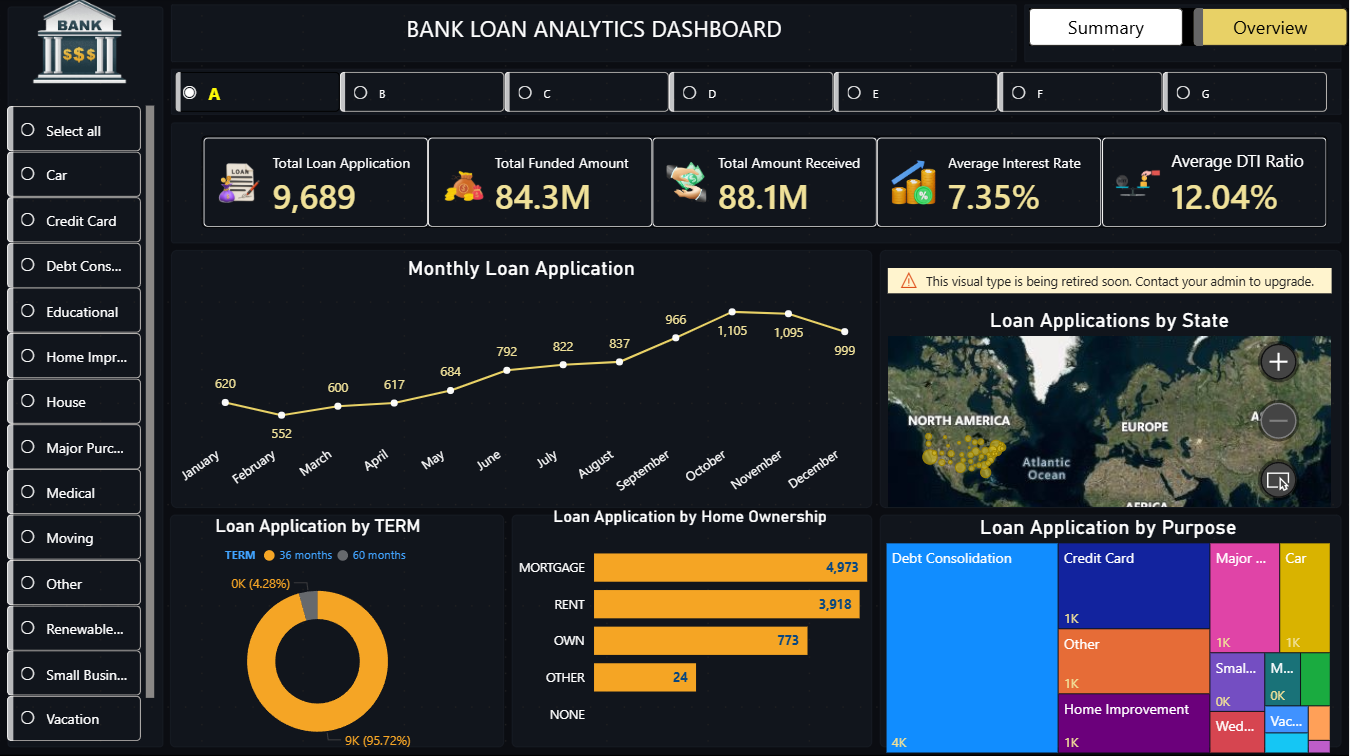

The page's visual inventory and layout, read from the dashboard file:
{"tool":"powerbi","page":{"name":"Overview","canvas":[1280,720],"ordinal":1},"visuals":[{"type":"cardVisual","fields":{"Data":["financial_loan.Total Loan Application","financial_loan.Total Funded Amount","financial_loan.Total Amount Received","financial_loan.Average Interest Rate","financial_loan.Average DTI Ratio"]},"box":[175.3,114.1,1104.7,121],"z":0},{"type":"image","box":[0,0,153,80.7],"z":1000},{"type":"advancedSlicerVisual","fields":{"Values":["financial_loan.PURPOSE"]},"box":[2.8,97.4,150.3,623.3],"z":2000},{"type":"advancedSlicerVisual","fields":{"Values":["financial_loan.GRADE"]},"box":[162.8,65.4,1104.7,48.7],"z":3000},{"type":"shape","box":[162.8,0,804.2,55.7],"z":4000},{"type":"pageNavigator","box":[976.7,9.7,303.3,36.2],"z":5000},{"type":"lineChart","title":"Monthly Loan Application","fields":{"Category":["financial_loan.ISSUE_DATE.Variation.Date Hierarchy.Month"],"Y":["financial_loan.Total Loan Application"]},"box":[162.4,245.3,666.1,245.3],"z":6000},{"type":"donutChart","title":" Loan Application by TERM","fields":{"Category":["financial_loan.TERM"],"Y":["financial_loan.Total Loan Application"]},"box":[131.6,490.7,341.3,229.9],"z":7000},{"type":"clusteredBarChart","title":"Loan Application by Home Ownership","fields":{"Category":["financial_loan.HOME_OWNERSHIP"],"Y":["financial_loan.Total Loan Application"]},"box":[482.4,490.7,346.1,229.9],"z":8000},{"type":"treemap","title":"Loan Application by Purpose","fields":{"Group":["financial_loan.PURPOSE"],"Values":["financial_loan.Total Loan Application"]},"box":[836.7,490.7,430.2,229.9],"z":9000},{"type":"map","title":"Loan Applications by State","fields":{"Category":["financial_loan.ADDRESS_STATE"],"Size":["financial_loan.Total Loan Application"]},"box":[837.9,256,430.2,226.4],"z":10000}]}

Visuals, with their boxes in screenshot pixels (x1, y1, x2, y2), scaled from the page's 1280x720 canvas onto the 1350x756 screenshot:
cardVisual - financial_loan.Total Loan Application x financial_loan.Total Funded Amount: <bbox>185, 120, 1349, 247</bbox>
image: <bbox>0, 0, 161, 85</bbox>
advancedSlicerVisual - financial_loan.PURPOSE: <bbox>3, 102, 161, 755</bbox>
advancedSlicerVisual - financial_loan.GRADE: <bbox>172, 69, 1337, 120</bbox>
shape: <bbox>172, 0, 1020, 58</bbox>
pageNavigator: <bbox>1030, 10, 1349, 48</bbox>
"Monthly Loan Application" lineChart: <bbox>171, 258, 874, 515</bbox>
" Loan Application by TERM" donutChart: <bbox>139, 515, 499, 755</bbox>
"Loan Application by Home Ownership" clusteredBarChart: <bbox>509, 515, 874, 755</bbox>
"Loan Application by Purpose" treemap: <bbox>882, 515, 1336, 755</bbox>
"Loan Applications by State" map: <bbox>884, 269, 1337, 507</bbox>
